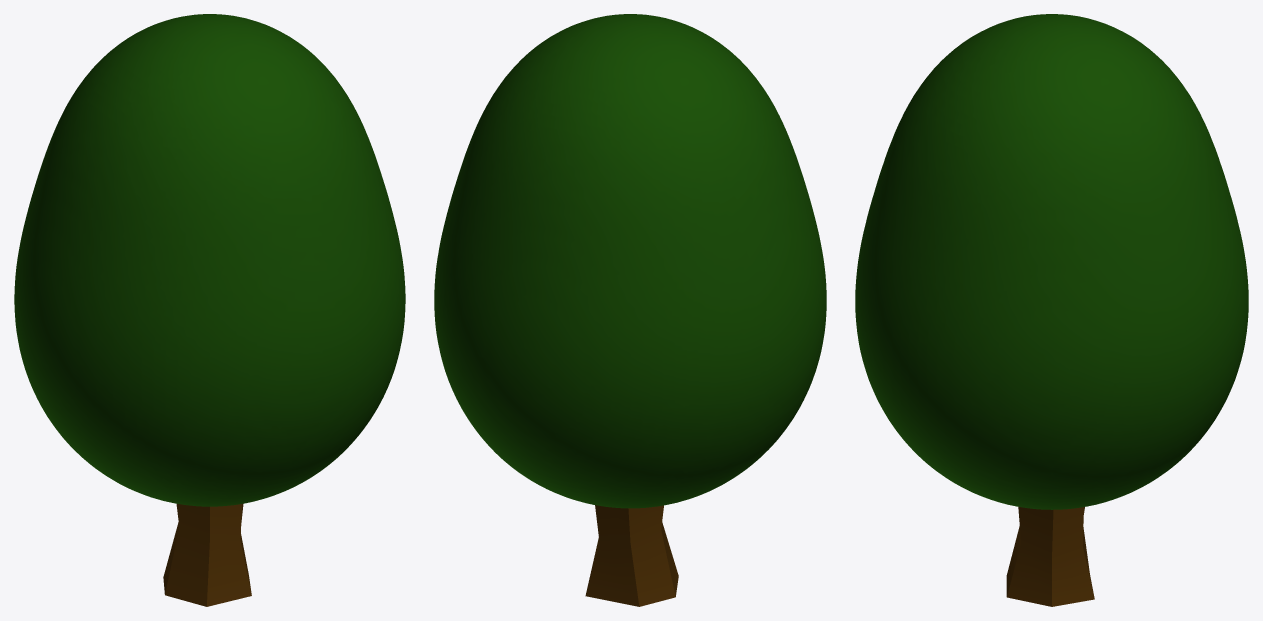
Rendered from tree2.fbx.
3 views of the same model, side by side, from view 1: azimuth 30°, elevation 25°; view 2: azimuth 150°, elevation 25°; view 3: azimuth 270°, elevation 25° (orthographic).
Visible parts, largest first — view 1: Metaball, Cylinder; view 2: Metaball, Cylinder; view 3: Metaball, Cylinder.
Boxes of the visible parts, x1,y1,x2,y2 form: Metaball: [14, 14, 405, 506]; Cylinder: [163, 503, 251, 606]; Metaball: [434, 14, 826, 508]; Cylinder: [585, 505, 678, 606]; Metaball: [855, 14, 1248, 509]; Cylinder: [1006, 507, 1094, 606].
Bounding box in the file's own units: 221 × 348 × 221.
